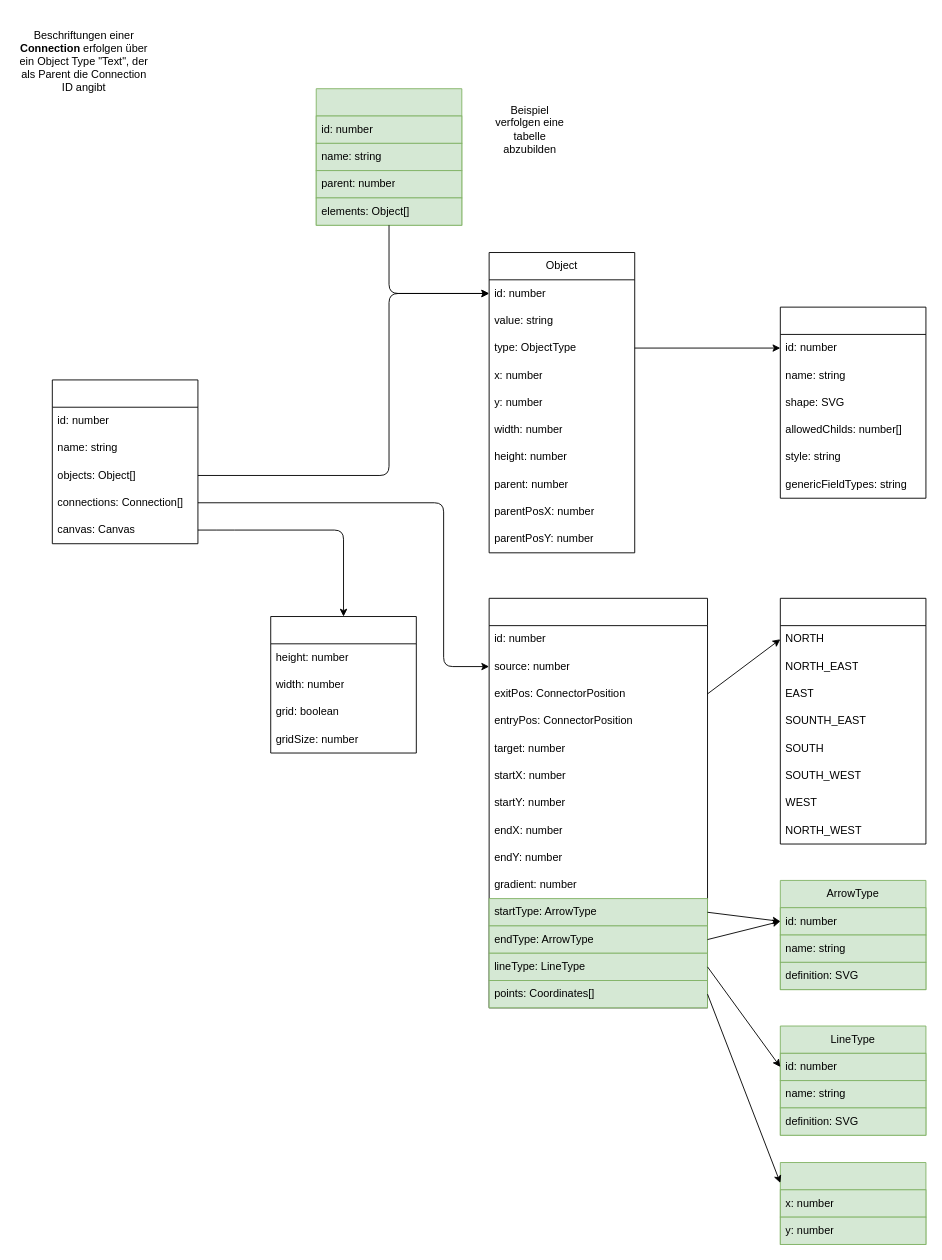
The diagram is 942 pixels wide and 1260 high, and some of its shapes have lost their labels. Each missing label, with the box of its shape:
Canvas: (270, 616, 416, 753)
Connection: (488, 597, 708, 1008)
ConnectorPosition: (779, 597, 926, 844)
Coordinates: (779, 1162, 926, 1244)
Diagram: (51, 379, 198, 544)
ObjectStructure: (315, 88, 462, 225)
ObjectType: (779, 306, 926, 498)
